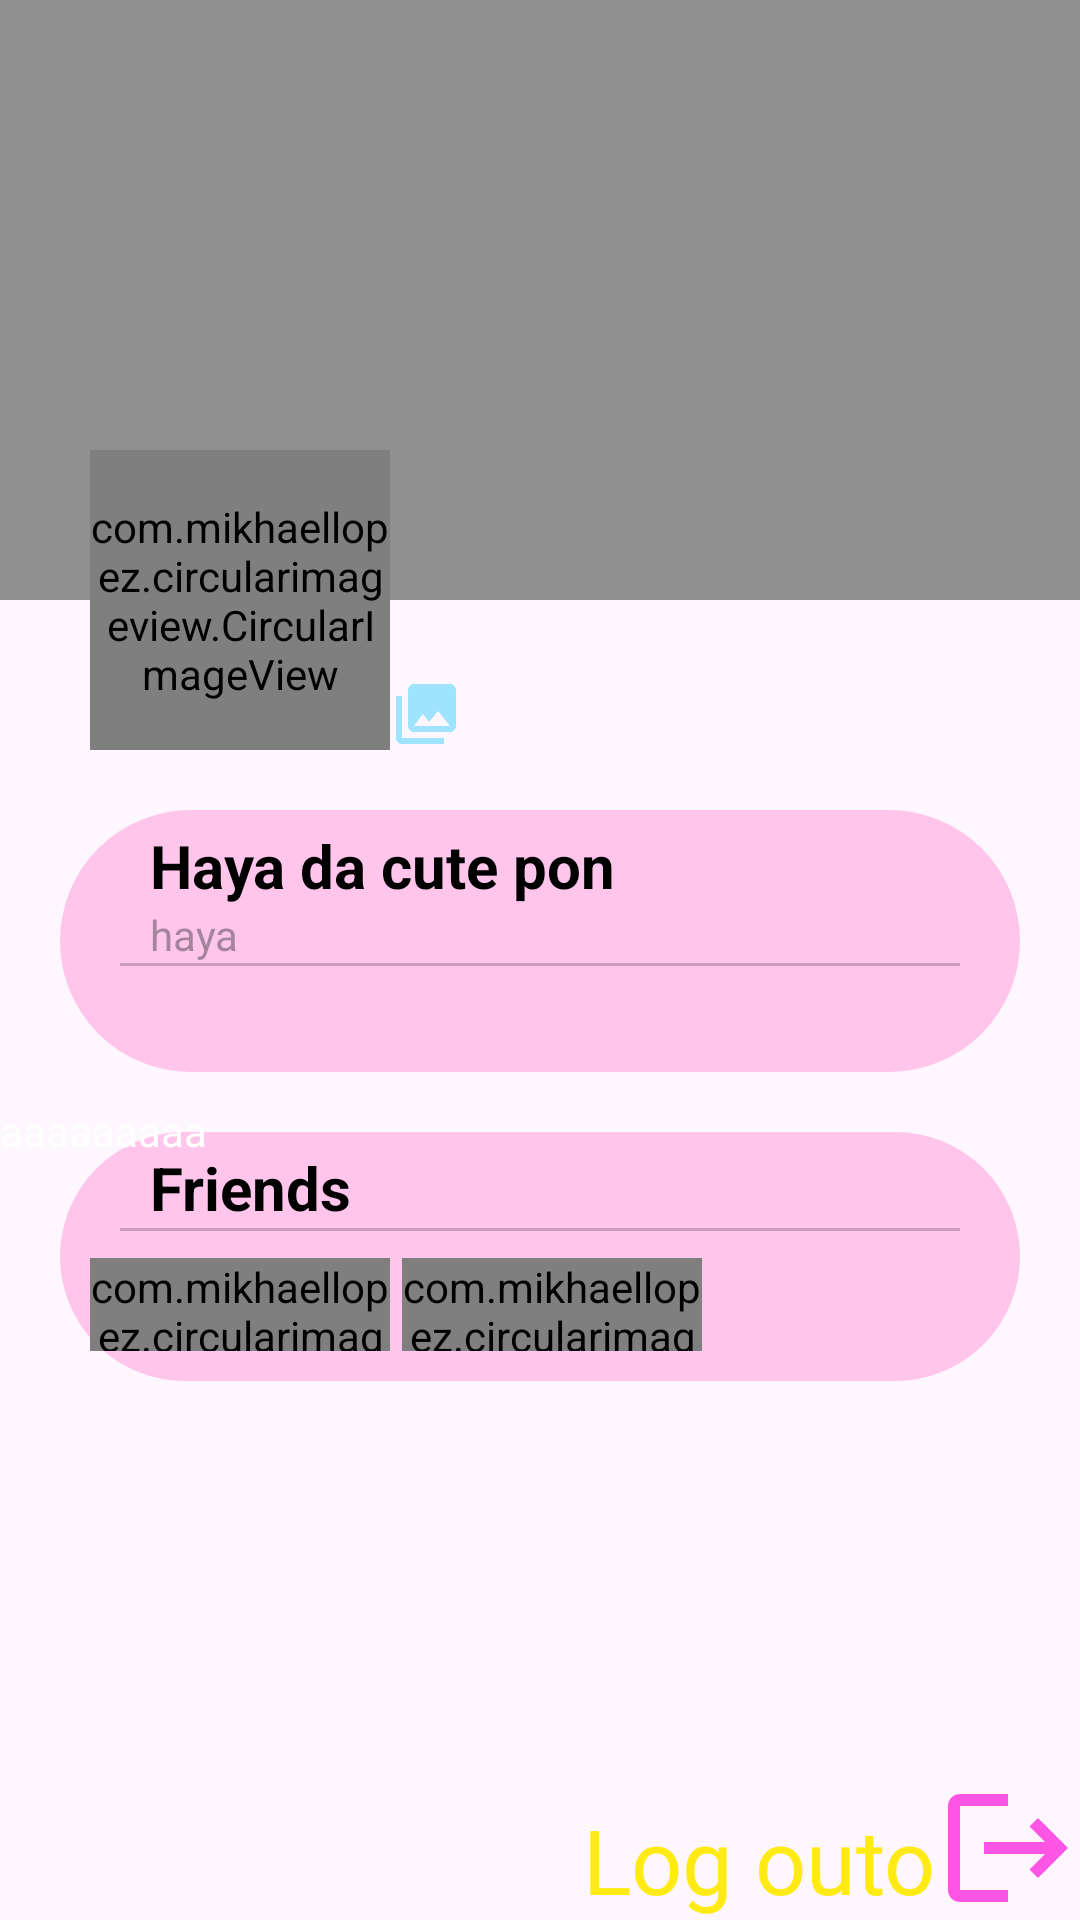

Locate icon controls on the screen. Image size 1080px x 1920px, boxes as (x1,y1,x2,y2).
photo: (396,684,456,744)
